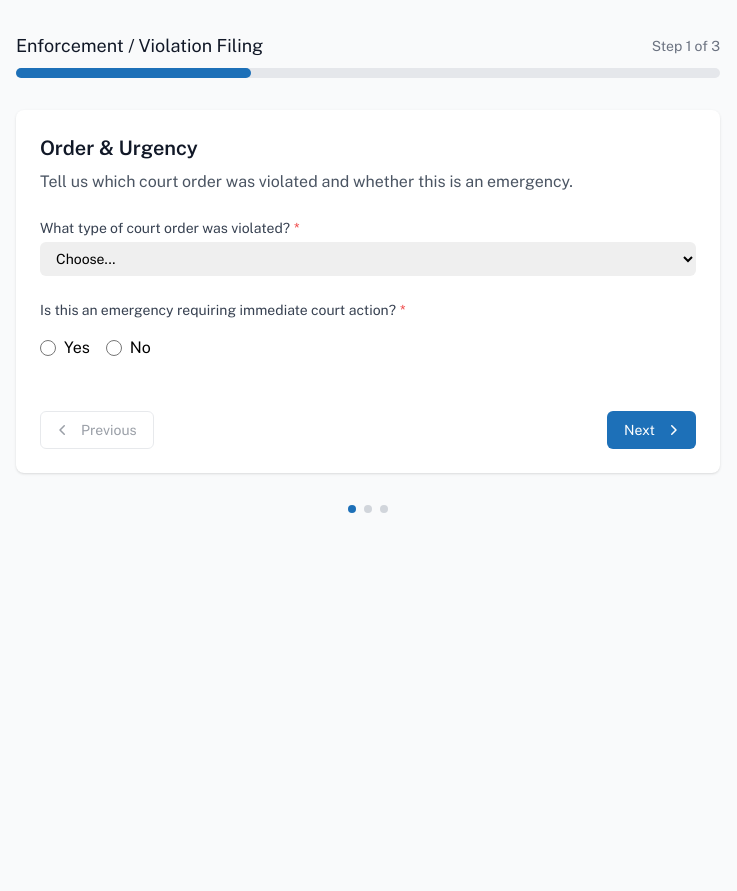
ViolationIntake result screen › result screen shows determined track name
Check: the heading "Order & Urgency" is shown, box [40, 136, 198, 160]
Click the button "Next" at [652, 430], box [607, 411, 696, 449]
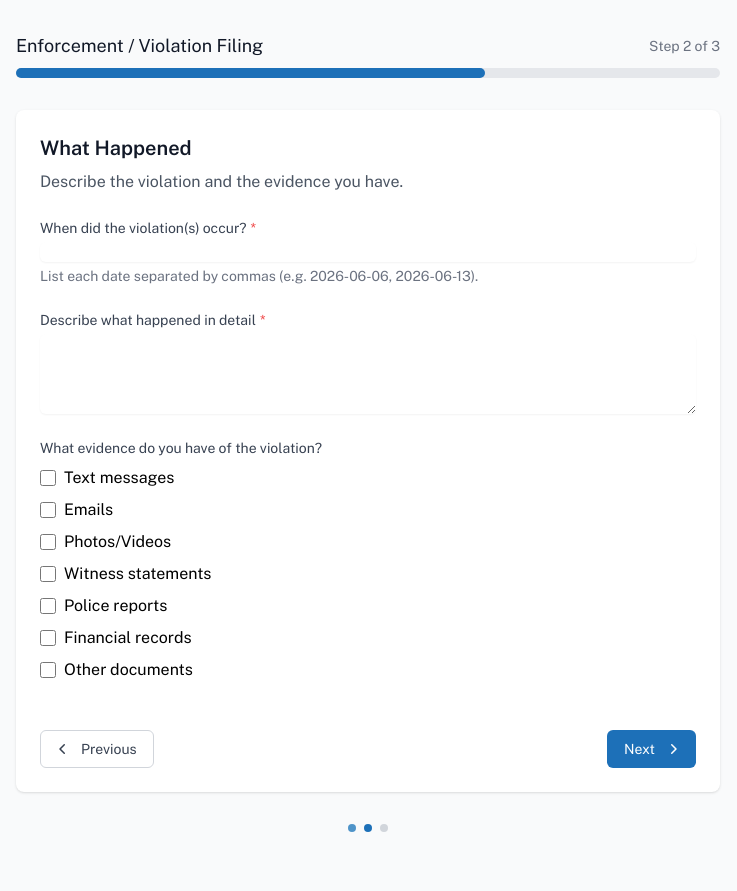
Check: the heading "What Happened" is shown, box [40, 136, 192, 160]
Click the button "Next" at [652, 749], box [607, 730, 696, 768]
(page scrolled)
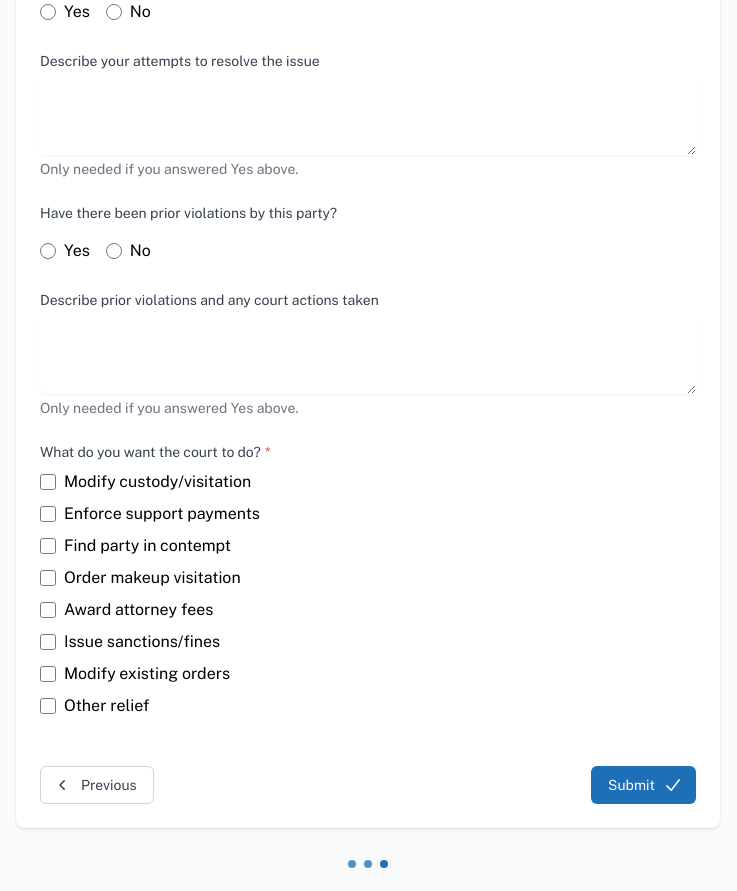
Check: the button "Submit" is shown
Click the button "Submit" at [644, 785], box [591, 766, 696, 804]
(page scrolled)
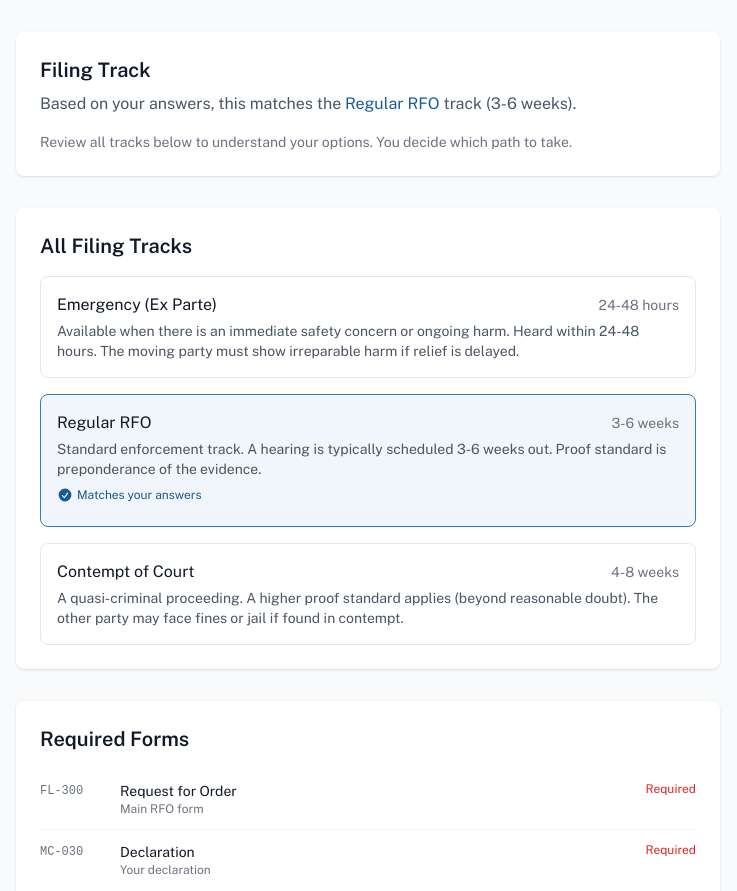
Check: the text "Based on your answers, this matches the" is shown, box [40, 94, 341, 113]
Check: the text "Regular RFO" is shown, box [345, 94, 440, 113]
